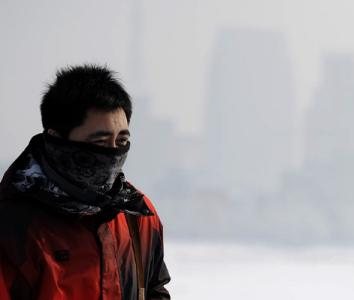person: (2, 57, 181, 300)
